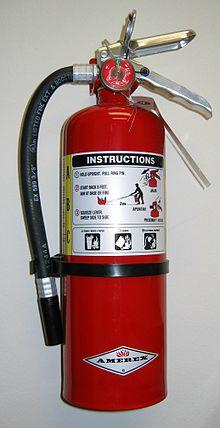Fire Extinguisher: (16, 14, 219, 422)
